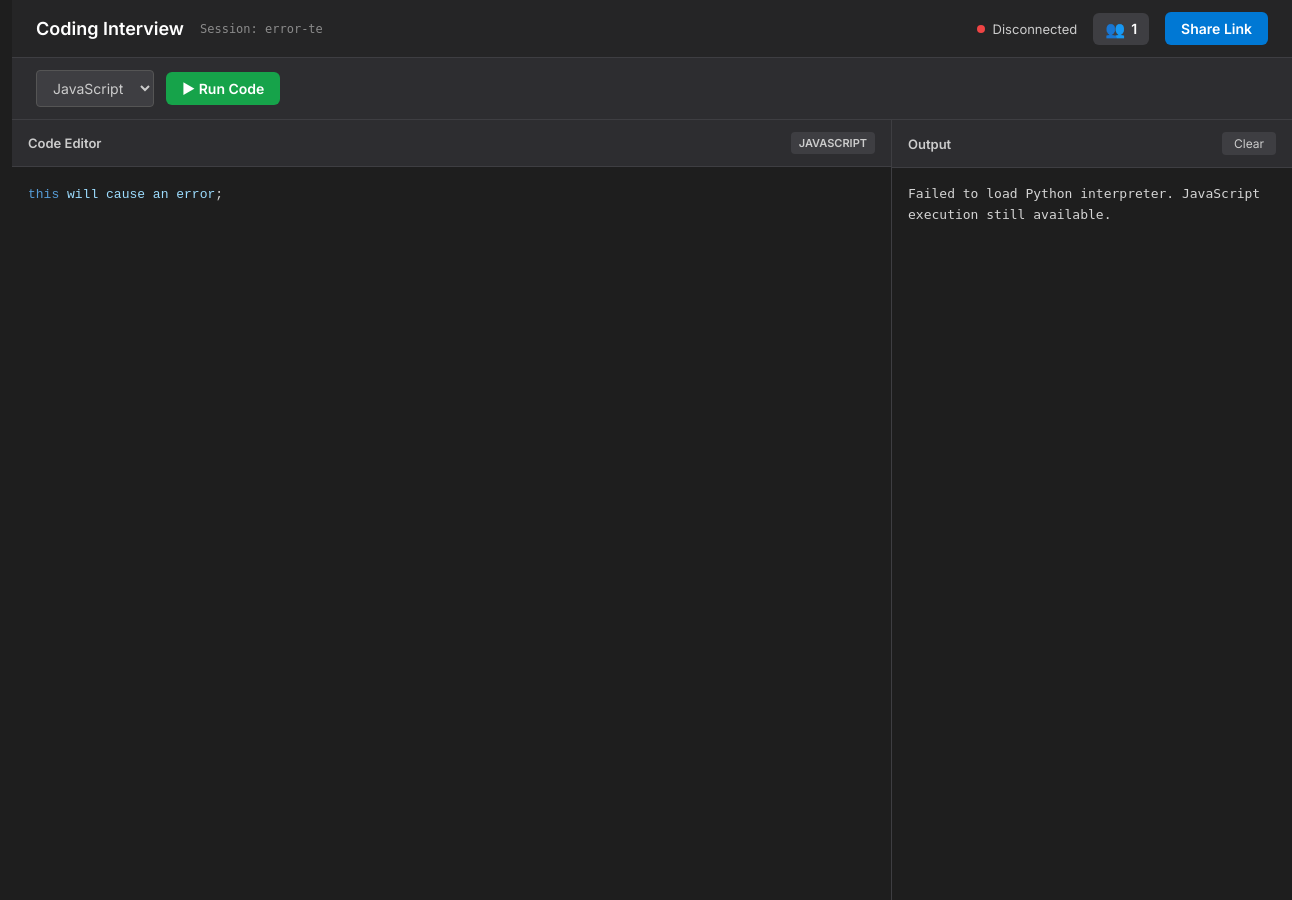
Test: Coding Interview Platform - Frontend Integration Tests › Code Execution › displays error message when code execution fails
The image size is (1292, 900).
Click the button "▶ Run Code" at (223, 88), box [166,72,280,105]
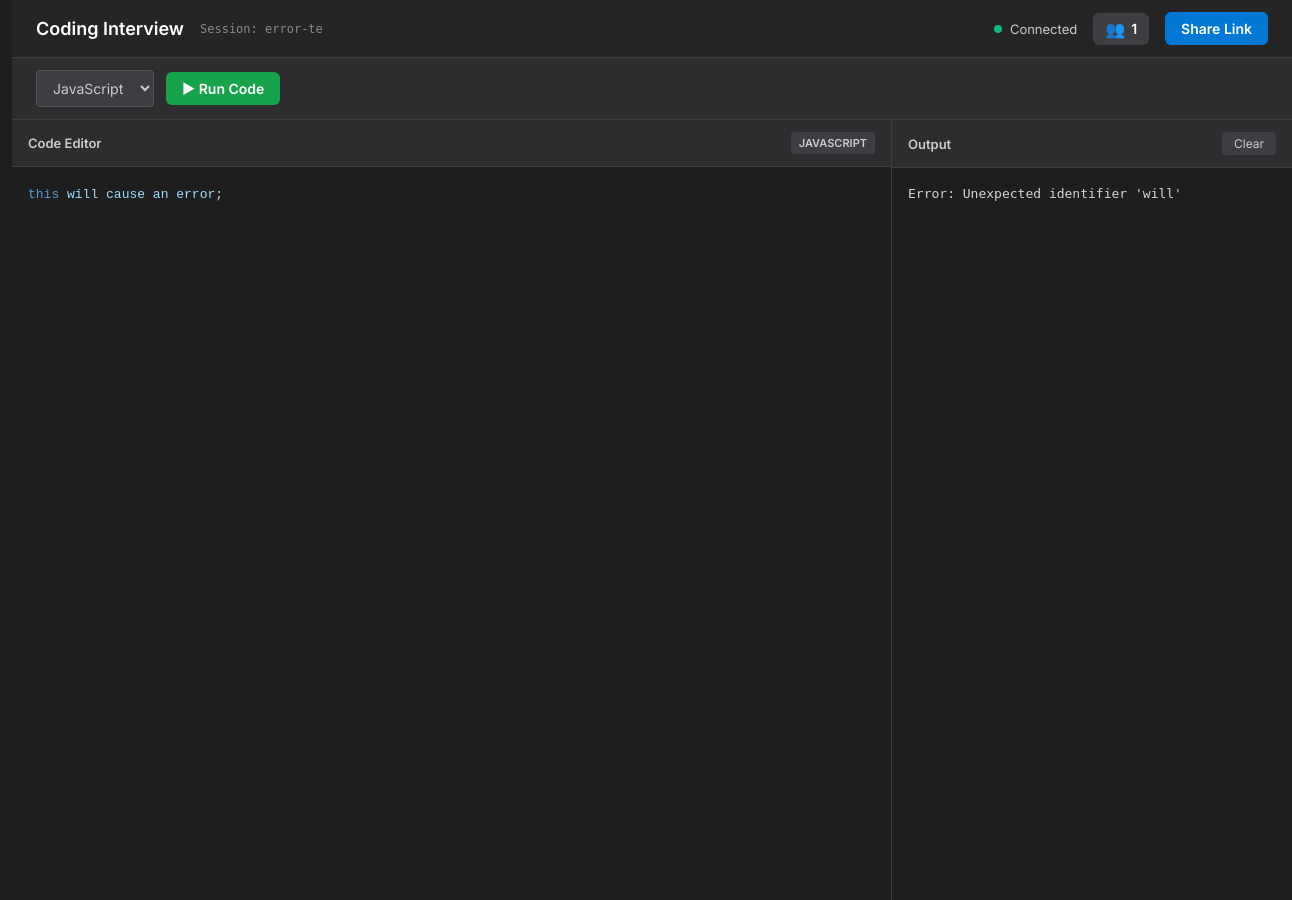
Result: the text "Error:" is shown at [908,186,1182,201]
